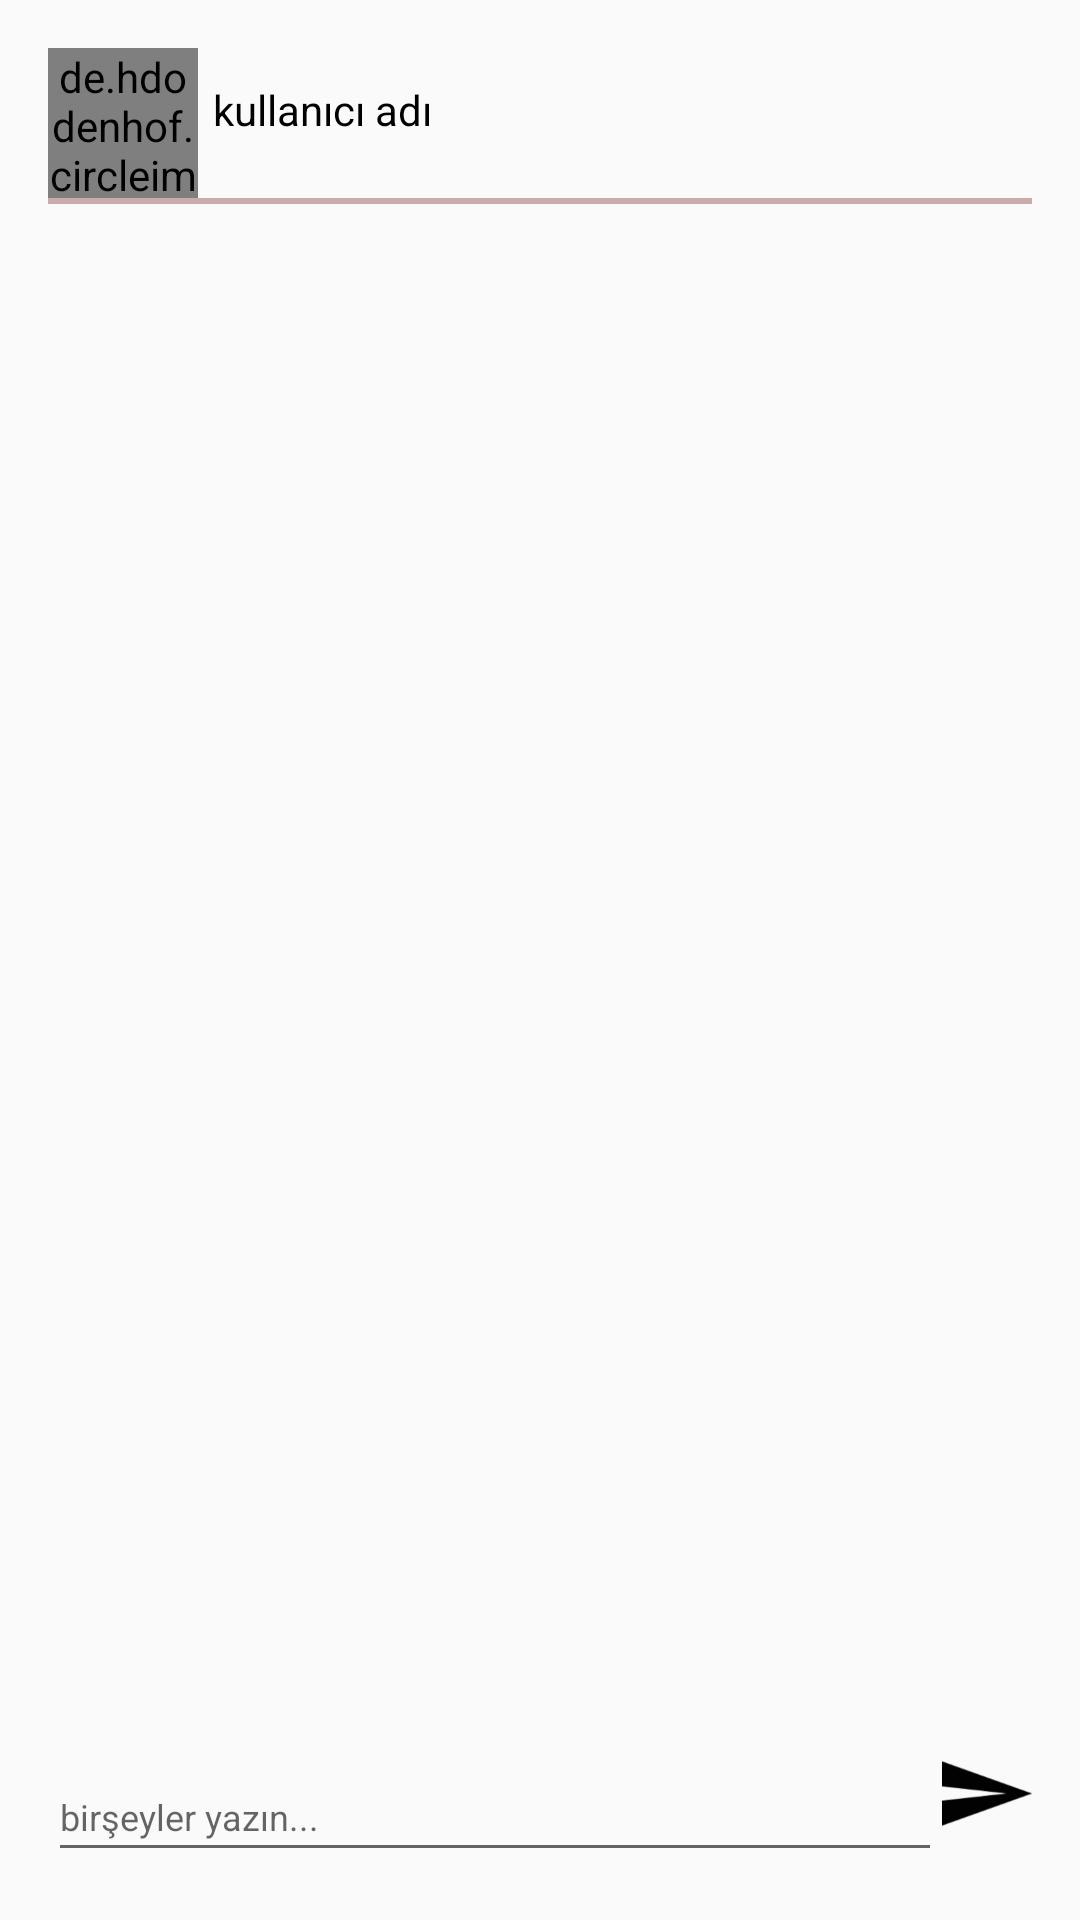

Icons on this 1080*1920 Android screen, each with its box as (x1, y1, x2, y2):
send message: (942, 1761, 1032, 1826)
